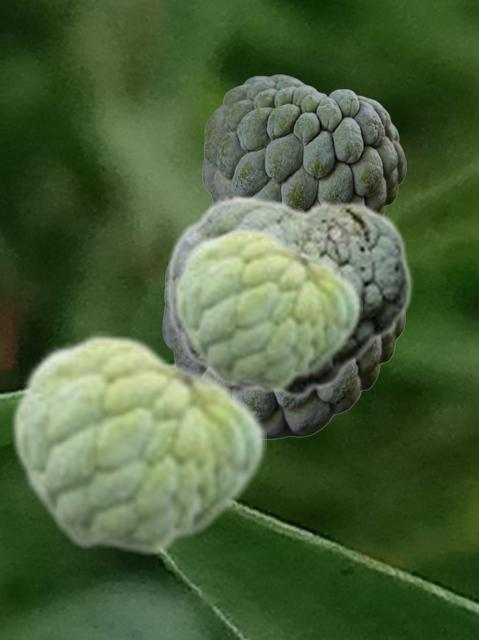atis: (9, 331, 265, 557), (165, 194, 412, 398), (162, 276, 404, 438), (172, 225, 361, 392), (202, 74, 405, 211)
